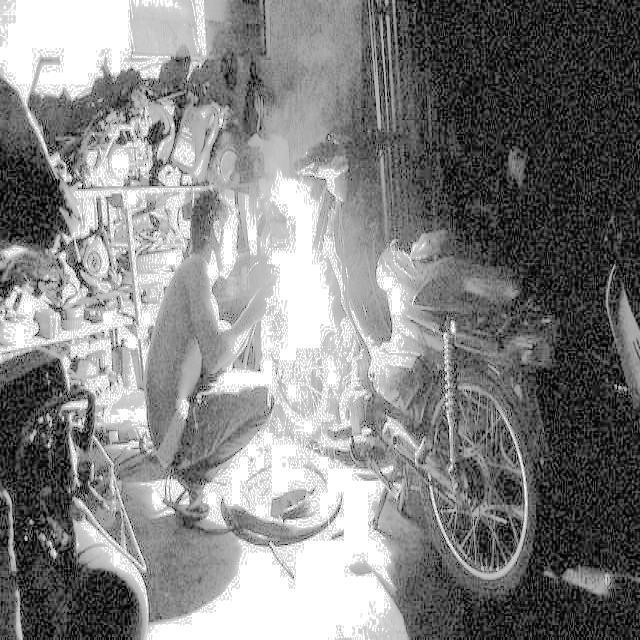Motorcycle: (260, 173, 516, 568)
Person: (155, 159, 264, 519)
